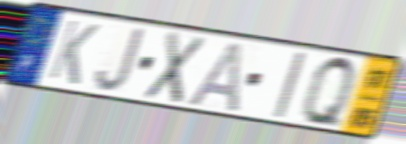A: (182, 39, 246, 115)
I: (270, 50, 309, 121)
J: (93, 25, 147, 94)
K: (45, 17, 102, 88)
Q: (300, 52, 357, 133)
X: (140, 28, 209, 107)
